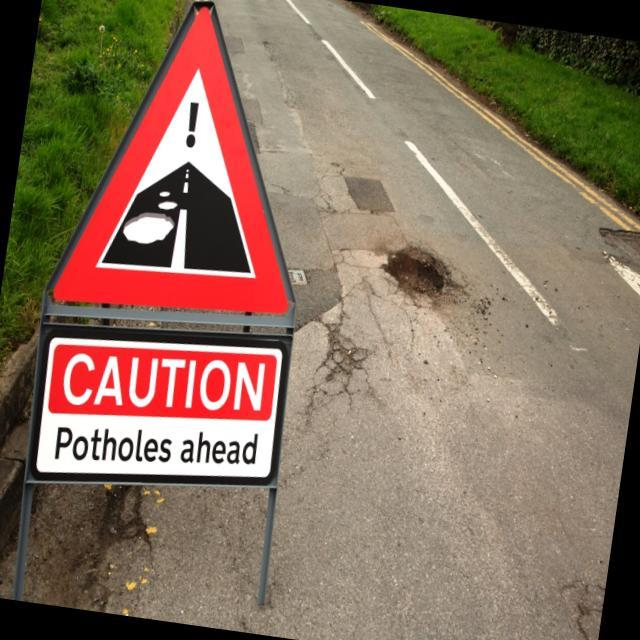Pothole: (380, 232, 459, 312)
